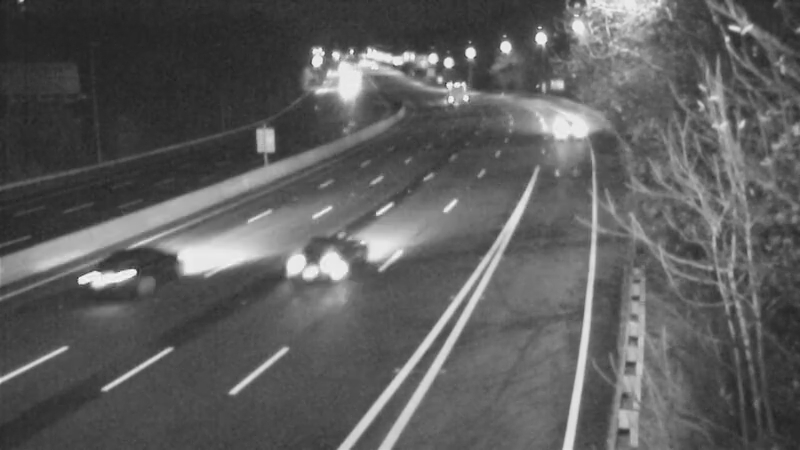vehicle: (274, 215, 354, 295), (426, 68, 476, 118), (533, 101, 583, 151), (323, 66, 373, 116)
